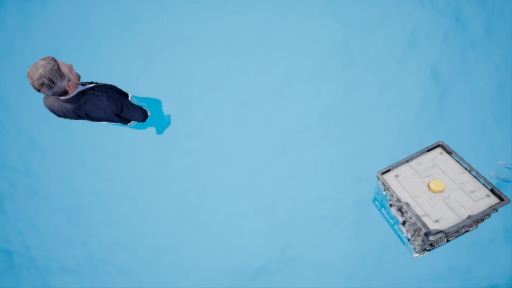person: (30, 54, 182, 141)
